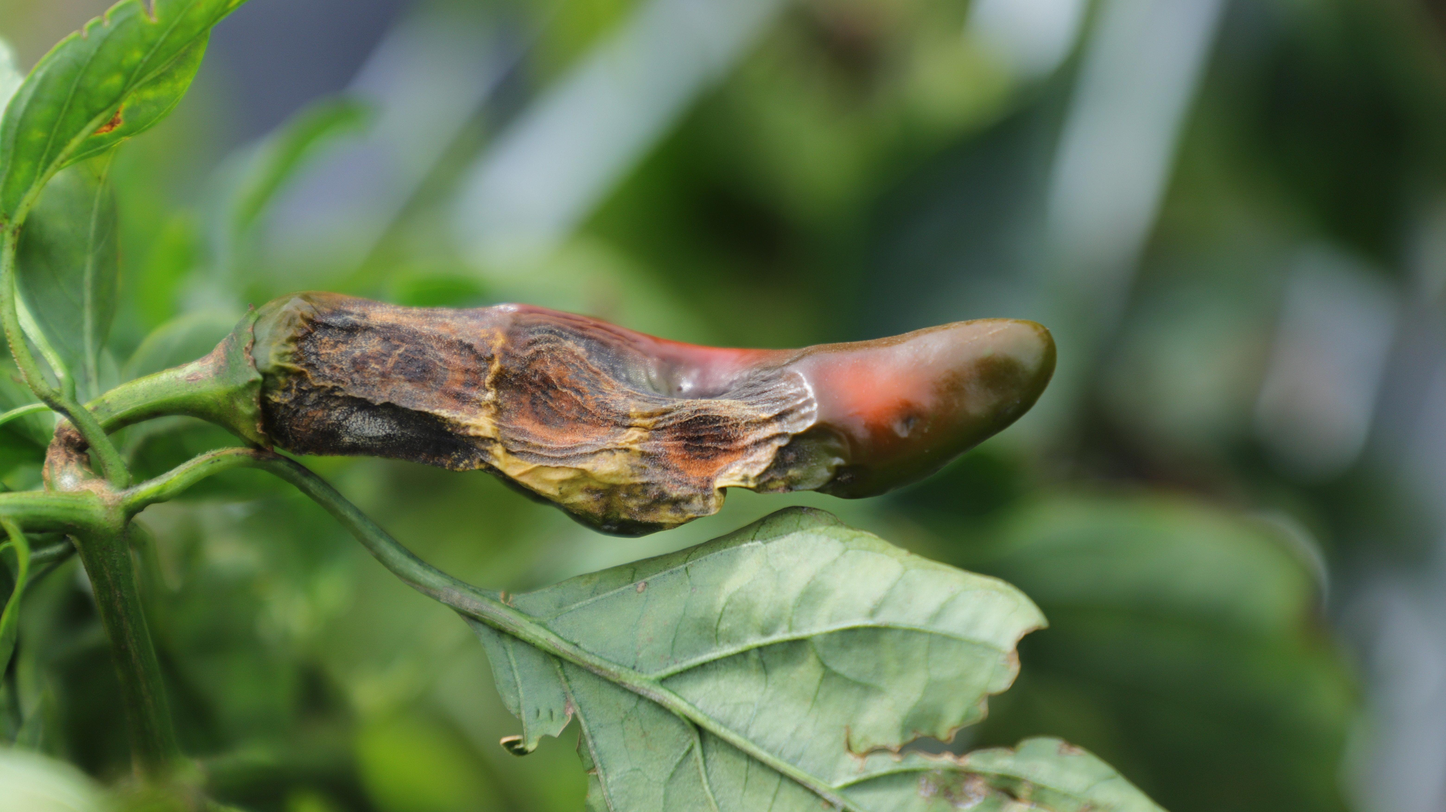Busuk Buah Antraknosa: (233, 288, 1060, 539)
